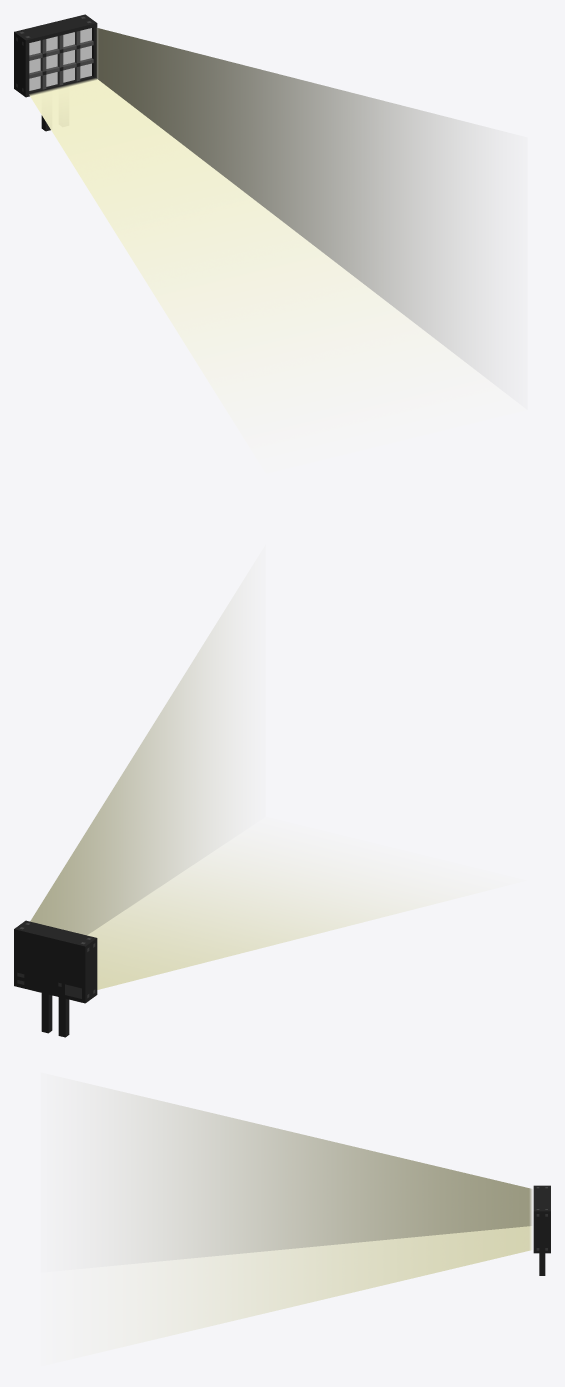
File: stadium-lights.glb
3 renders of one model, top to bottom at view 1: azimuth 30°, elevation 25°; view 2: azimuth 150°, elevation 25°; view 3: azimuth 270°, elevation 25°, orthographic. The views are drawn at different scales.
Parts seen in each view (by area): view 1: light-beam, stadium-lights; view 2: light-beam, stadium-lights; view 3: light-beam, stadium-lights.
Boxes of the visible parts, x1,y1,x2,y2 form: light-beam: (29, 28, 460, 414); stadium-lights: (14, 14, 97, 131); light-beam: (30, 603, 458, 989); stadium-lights: (14, 920, 97, 1037); light-beam: (116, 1091, 531, 1347); stadium-lights: (533, 1185, 550, 1275).
Bounding box in the file's own units: 8 × 8 × 18.6.
2 materials, 2 textured.
